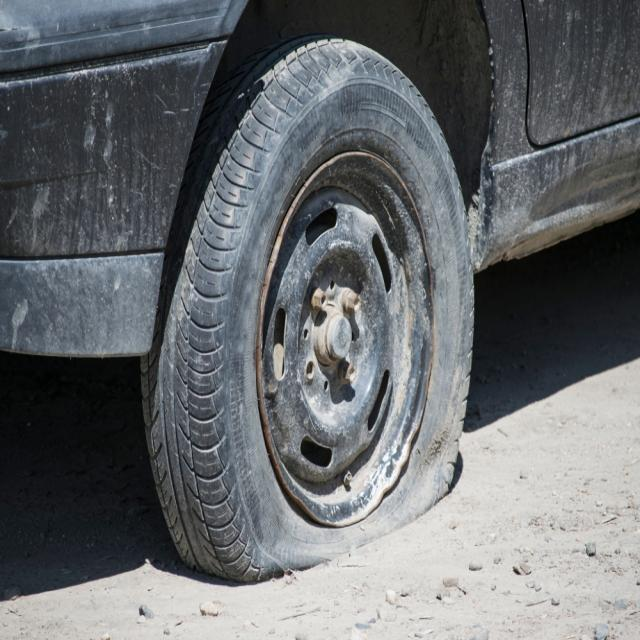tire flat: (141, 35, 474, 581)
